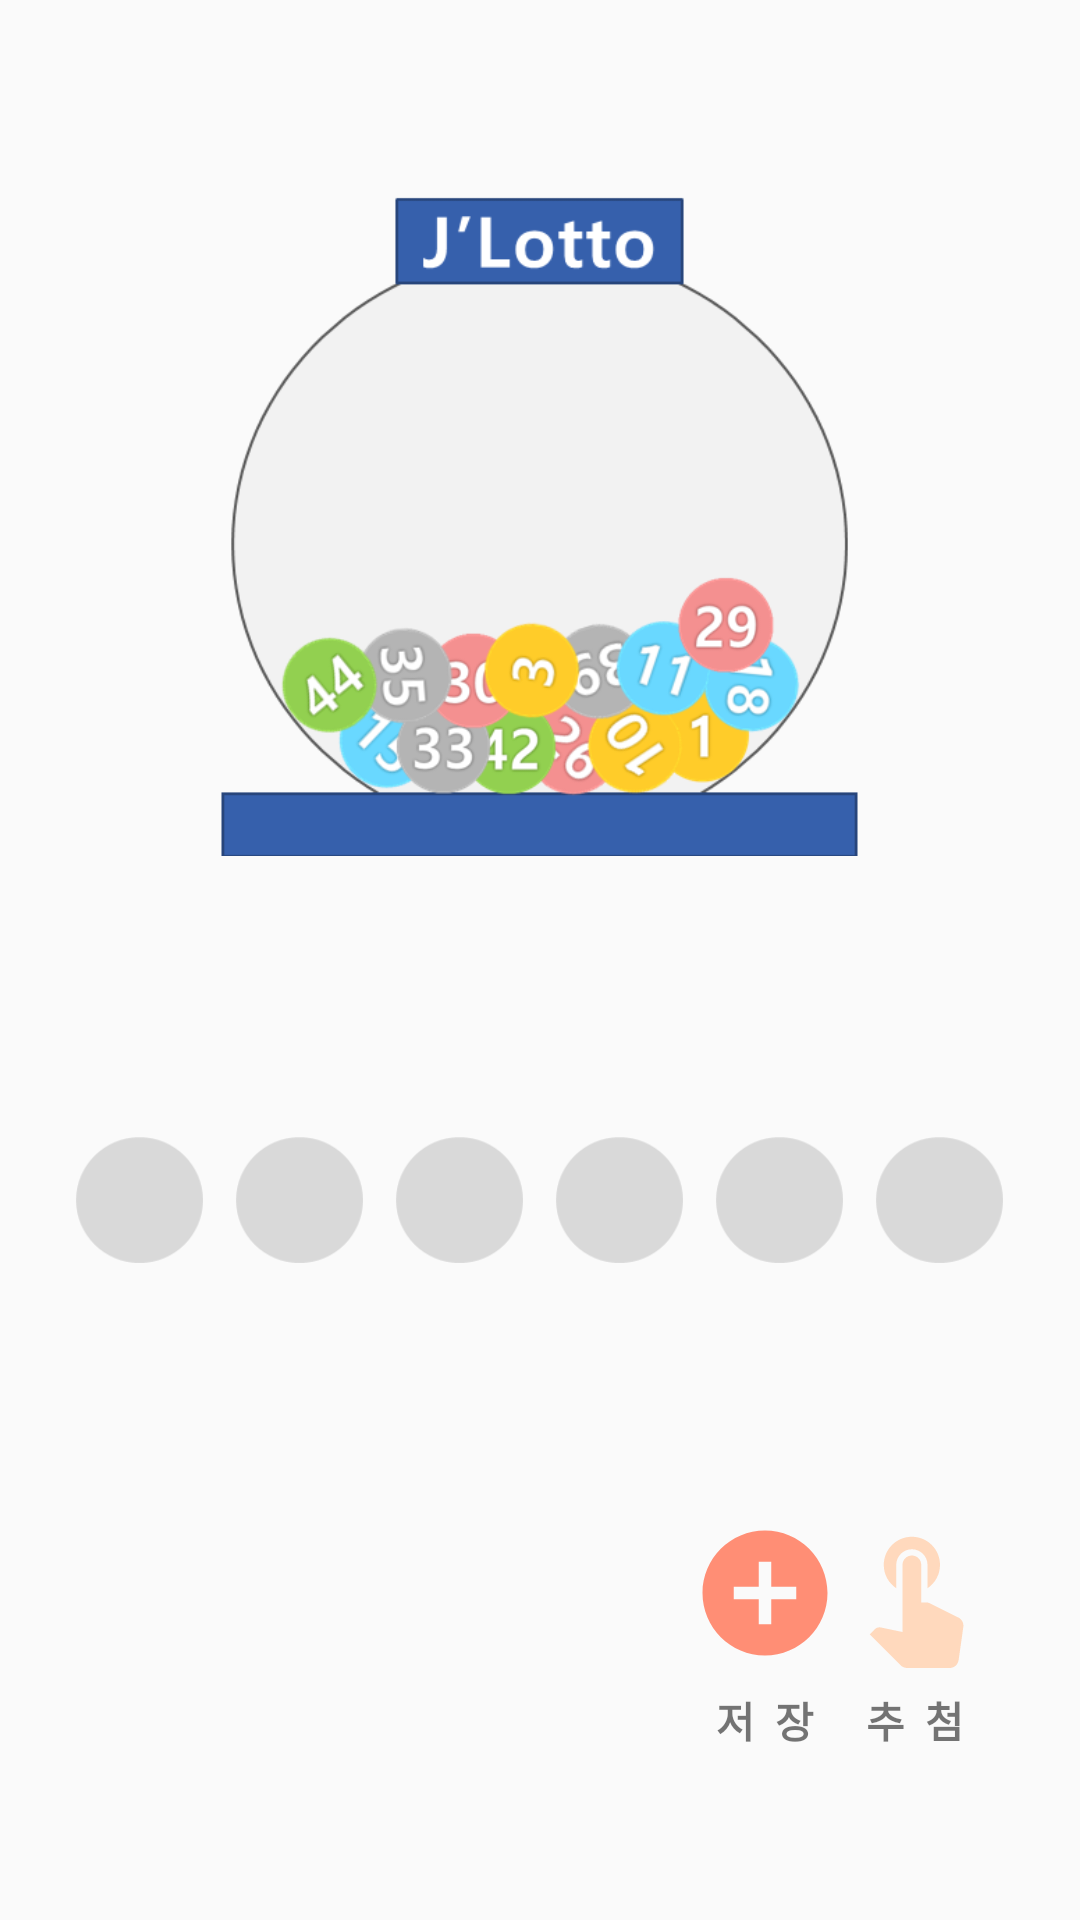

Icon bounding boxes for this 1080 × 1920 phone screenshot, format (x1, y1, x2, y2):
add circle: (702, 1530, 828, 1656)
touch: (870, 1537, 964, 1668)
